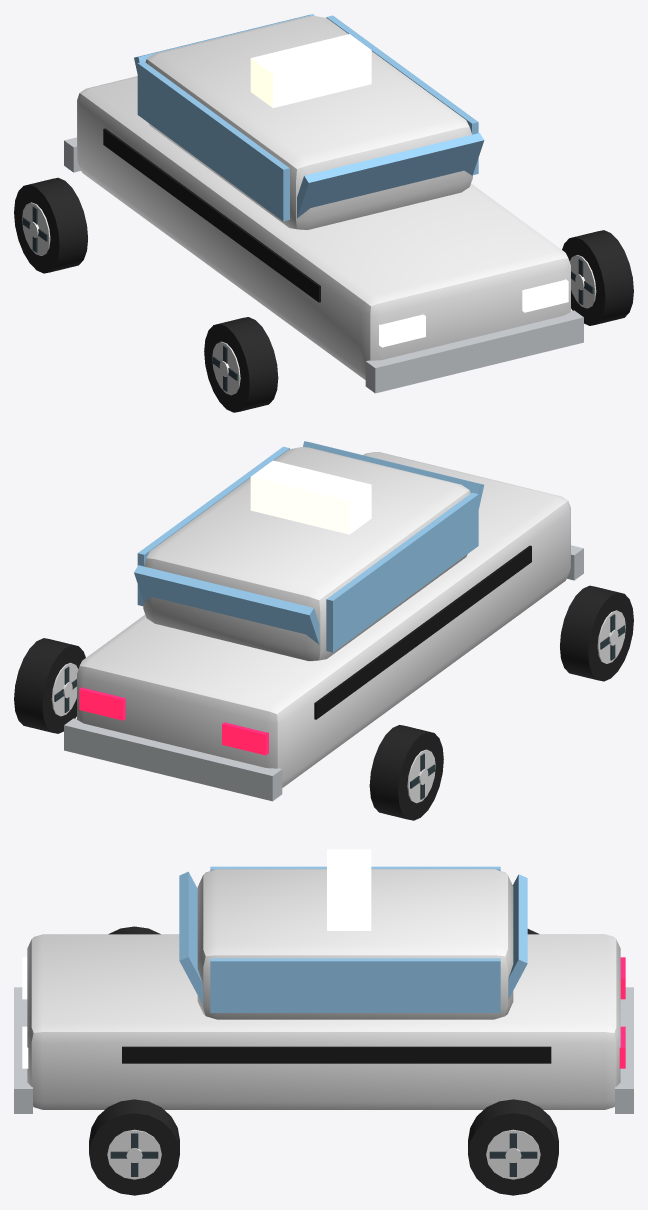
File: airport_taxi.glb
The picture shows the model from 3 angles, top to bottom: view 1: azimuth 30°, elevation 25°; view 2: azimuth 150°, elevation 25°; view 3: azimuth 270°, elevation 25°; orthographic projection.
Parts seen in each view (by area): view 1: AirportTaxi_body, Wheel_FR, Wheel_RR, Wheel_FL; view 2: AirportTaxi_body, Wheel_RR, Wheel_FR, Wheel_RL; view 3: AirportTaxi_body, Wheel_FL, Wheel_RL.
Boxes of the visible parts, x1,y1,x2,y2 form: AirportTaxi_body: (64,14,583,393); Wheel_FR: (204,317,278,412); Wheel_RR: (14,177,87,273); Wheel_FL: (562,230,633,325); AirportTaxi_body: (64,441,583,801); Wheel_RR: (369,725,443,820); Wheel_FR: (560,585,633,681); Wheel_RL: (14,638,85,733); AirportTaxi_body: (14,849,633,1113); Wheel_FL: (89,1099,179,1195); Wheel_RL: (468,1099,558,1195).
Bounding box in the file's own units: 3.56 × 2 × 4.91.
